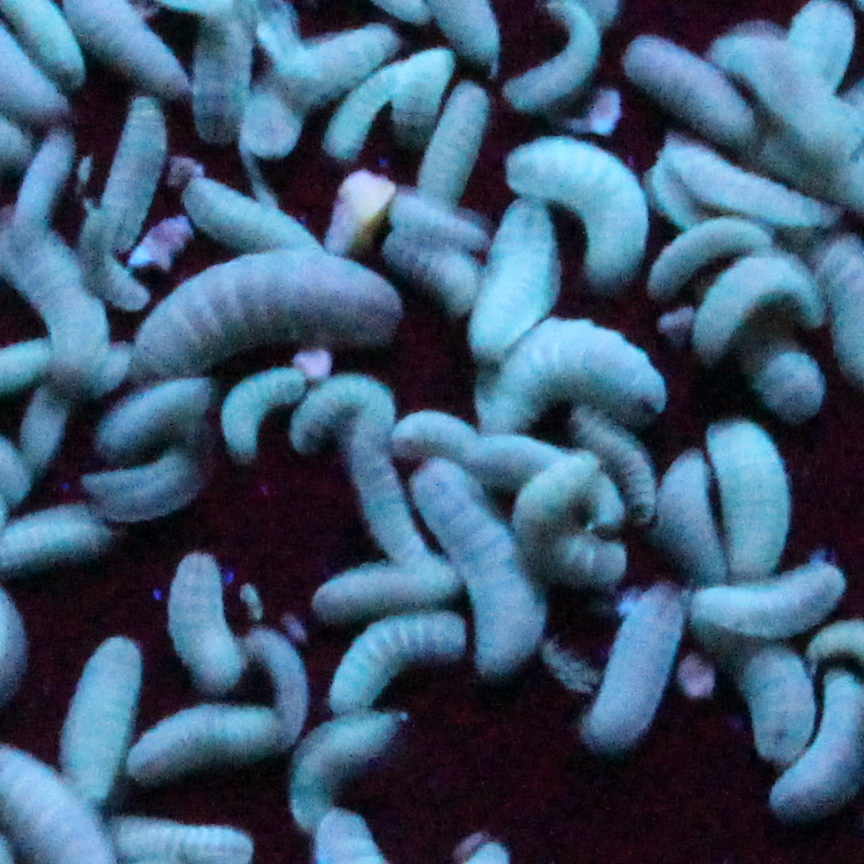larve: (397, 444, 562, 677), (125, 258, 410, 387), (417, 461, 548, 695), (461, 300, 671, 438), (494, 128, 658, 289), (571, 579, 693, 760), (691, 416, 818, 589), (132, 545, 252, 716), (178, 147, 323, 281), (318, 604, 479, 710), (53, 625, 144, 810), (691, 248, 830, 357), (94, 90, 174, 274), (679, 551, 846, 638), (413, 64, 497, 225), (620, 30, 754, 130), (299, 548, 469, 623), (220, 361, 317, 463)
